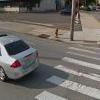Crosswalk: (62, 38, 89, 100)
